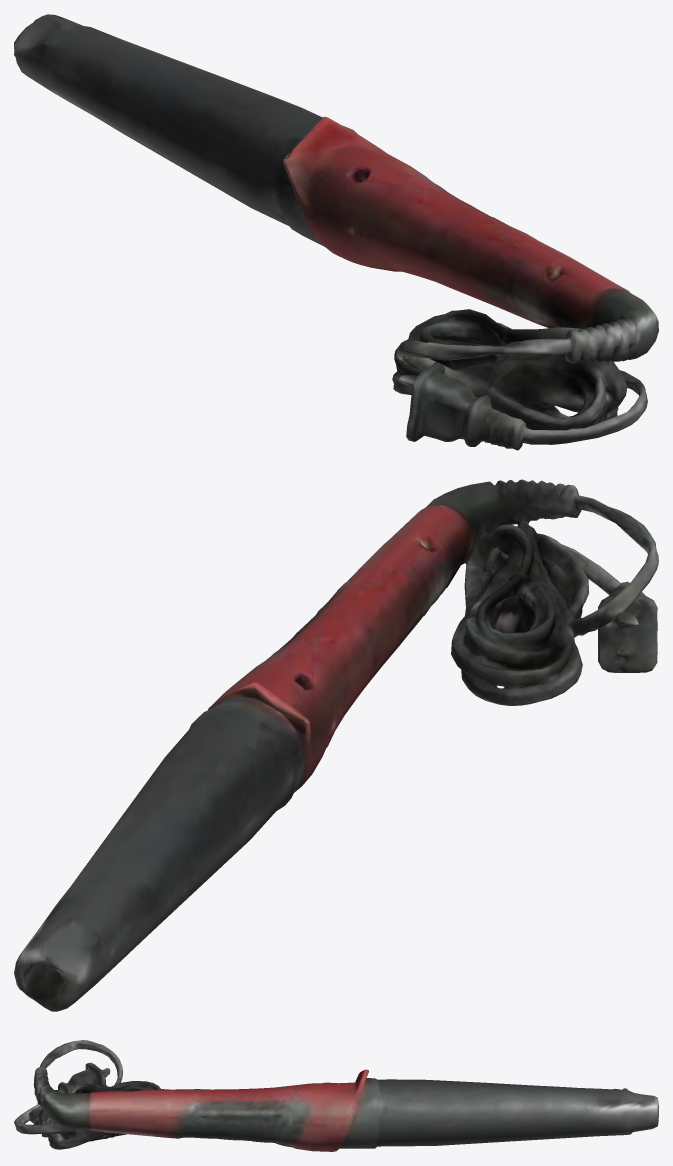
Rendered from Remington_1_12_inch_Hair_Straightener-high.glb.
3 views of the same model, one above another, from view 1: azimuth 30°, elevation 25°; view 2: azimuth 150°, elevation 25°; view 3: azimuth 270°, elevation 25° (orthographic). The views are drawn at different scales.
Parts seen in each view (by area): view 1: Remington_1_12_inch_Hair_Straightener; view 2: Remington_1_12_inch_Hair_Straightener; view 3: Remington_1_12_inch_Hair_Straightener.
Boxes of the visible parts, x1,y1,x2,y2 form: Remington_1_12_inch_Hair_Straightener: [14, 14, 658, 450]; Remington_1_12_inch_Hair_Straightener: [14, 479, 658, 1011]; Remington_1_12_inch_Hair_Straightener: [14, 1040, 658, 1151].
Bounding box in the file's own units: 0.0905 × 0.0467 × 0.3653.
1 material, 1 textured.
